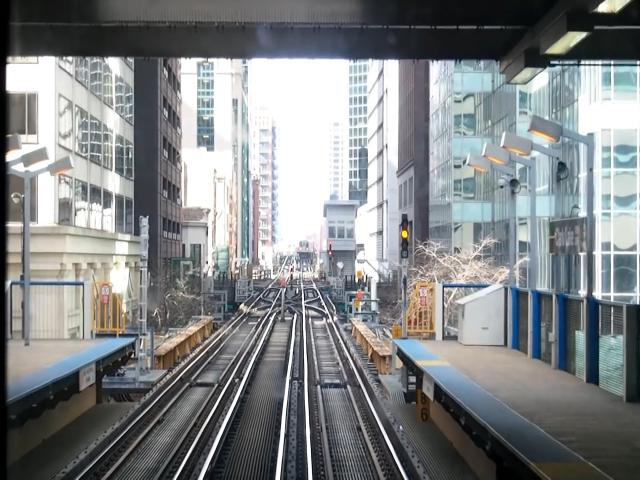signal light: (401, 212, 411, 261)
